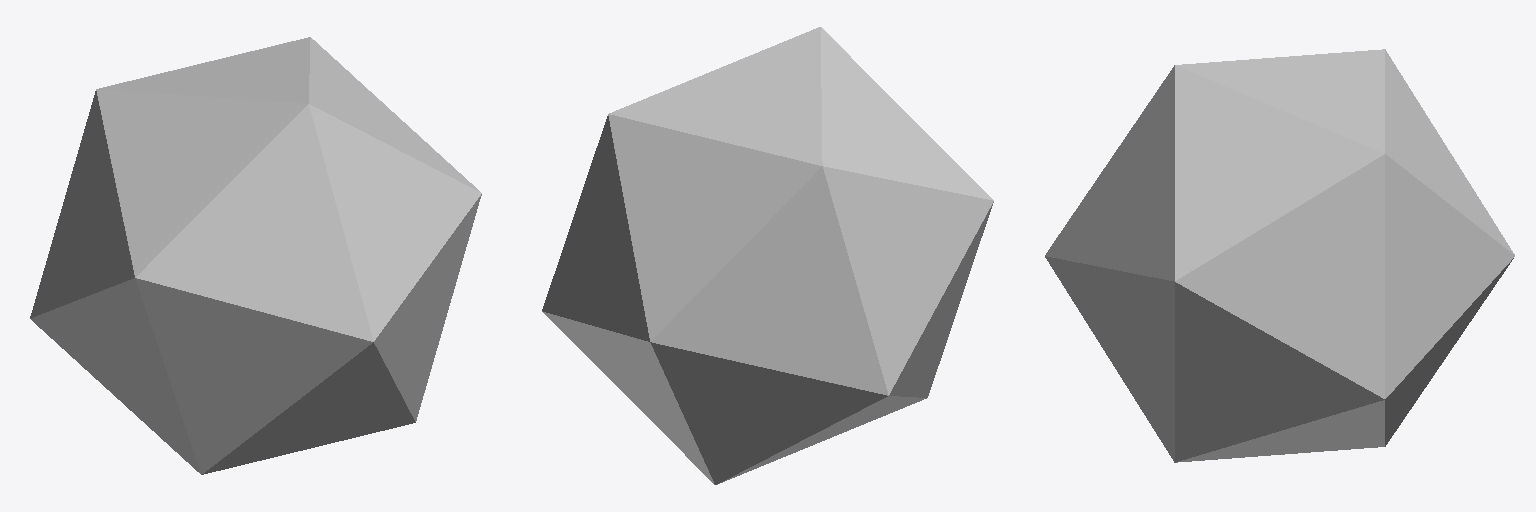
Rendered from monty_ico_20faces.obj.
3 renders of one model, left to right at view 1: azimuth 30°, elevation 25°; view 2: azimuth 150°, elevation 25°; view 3: azimuth 270°, elevation 25°, orthographic.
Visible parts, largest first — view 1: Icosphere.001; view 2: Icosphere.001; view 3: Icosphere.001.
Boxes of the visible parts, <box> form: Icosphere.001: <box>30,37,481,474</box>; Icosphere.001: <box>542,27,993,484</box>; Icosphere.001: <box>1045,49,1514,462</box>.
Size of the model in its own units: 871 by 916 by 1024.